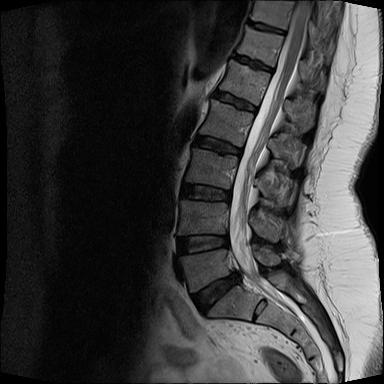Degenerative Disc Disease (DDD): (230, 50, 278, 78), (243, 17, 288, 37)
Lumbar Disc Bulge (LDB): (188, 266, 249, 322)
Normal IVD: (173, 181, 234, 207), (192, 133, 246, 161), (208, 89, 260, 117), (170, 234, 232, 256)
Spinal Stenosis (SS): (227, 266, 247, 290)
